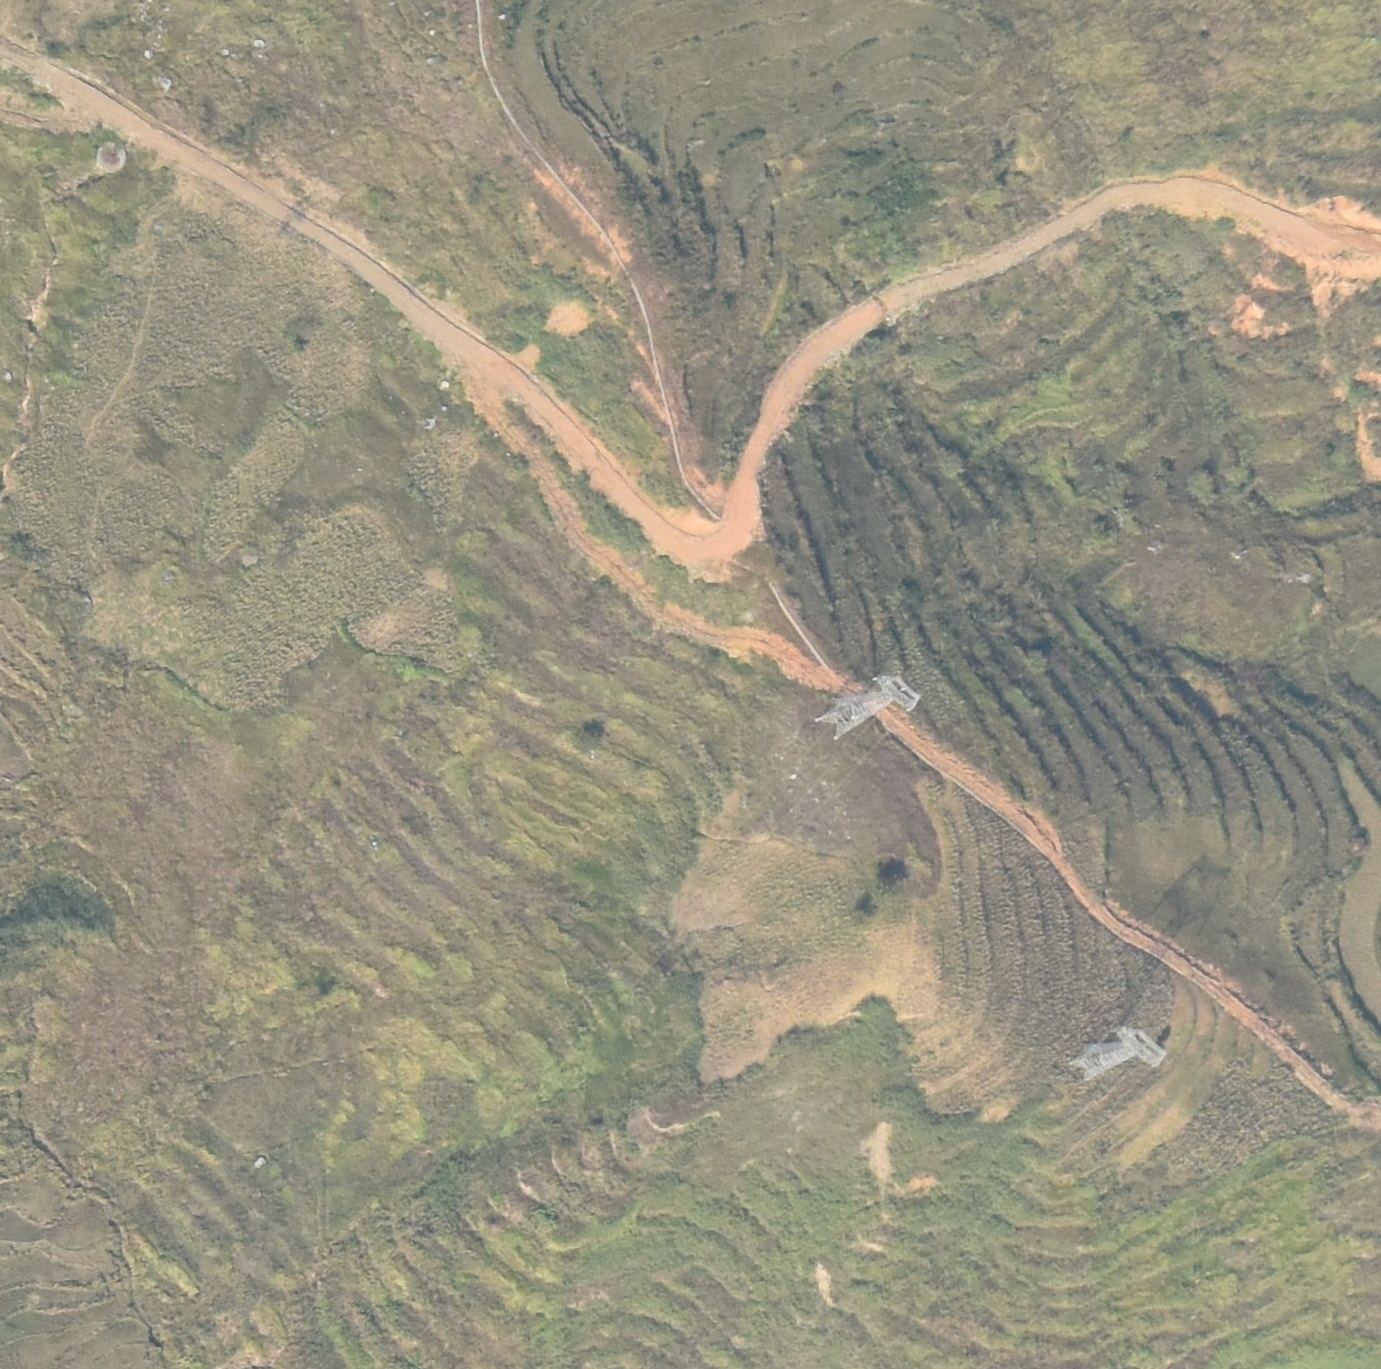cable-tower: (816, 672, 919, 741), (1070, 1015, 1165, 1084)
well: (95, 139, 125, 170)
